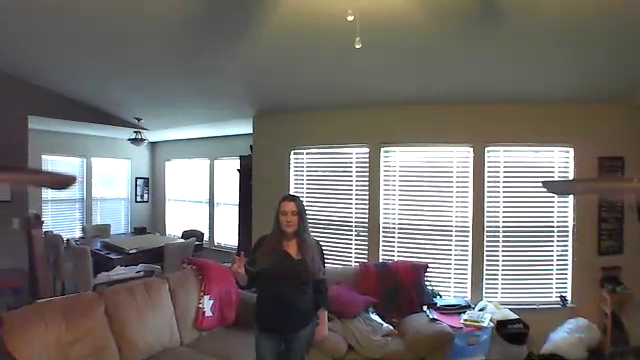peace: (225, 244, 254, 288)
